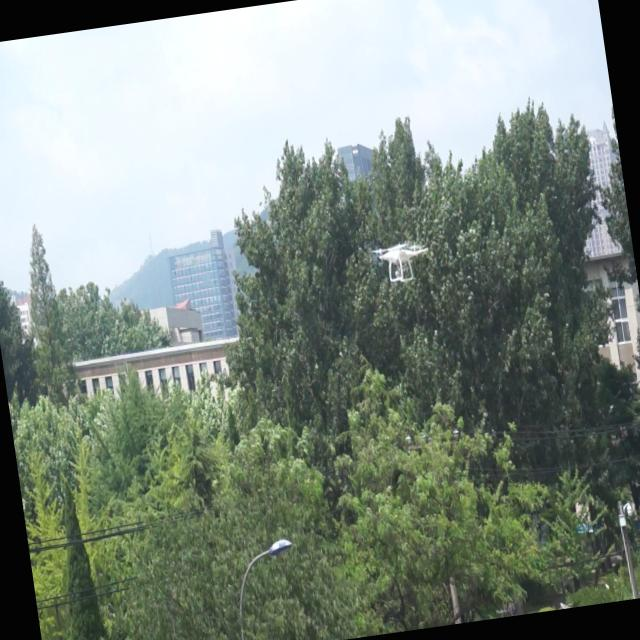drone: (372, 236, 432, 288)
